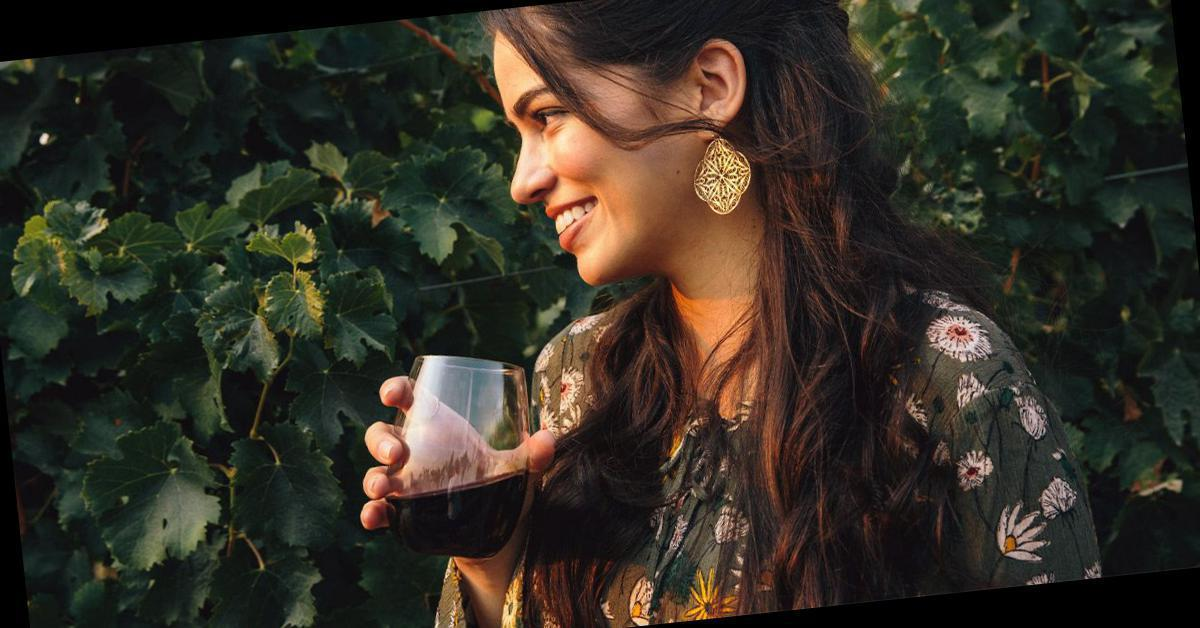Drunk: (506, 33, 701, 279)
